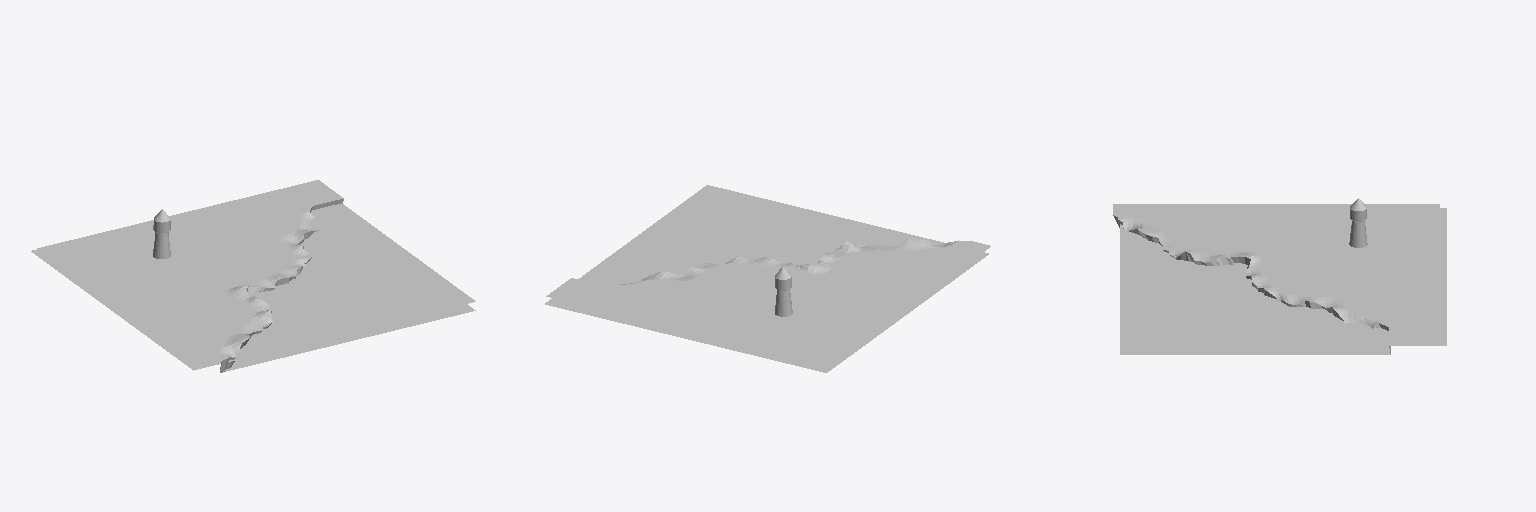
The model's file is Full.obj.
The picture shows the model from 3 angles: view 1: azimuth 30°, elevation 25°; view 2: azimuth 150°, elevation 25°; view 3: azimuth 270°, elevation 25°; orthographic projection.
Parts seen in each view (by area): view 1: Plane, Plane.002, Plane.001, Circle; view 2: Plane, Plane.002, Plane.001, Circle; view 3: Plane.002, Plane, Plane.001, Circle.
Part boxes in pixels (left/top/right/bottom): Plane: left=31, top=203, right=475, bottom=370; Plane.002: left=37, top=180, right=472, bottom=372; Plane.001: left=39, top=180, right=475, bottom=371; Circle: left=153, top=209, right=170, bottom=258; Plane: left=545, top=185, right=988, bottom=372; Plane.002: left=546, top=238, right=990, bottom=365; Plane.001: left=550, top=238, right=983, bottom=364; Circle: left=775, top=267, right=792, bottom=316; Plane.002: left=1113, top=204, right=1439, bottom=354; Plane: left=1120, top=208, right=1446, bottom=345; Plane.001: left=1113, top=204, right=1439, bottom=354; Circle: left=1349, top=198, right=1367, bottom=247.
Size of the model in its own units: 20.12 by 4.23 by 20.46.